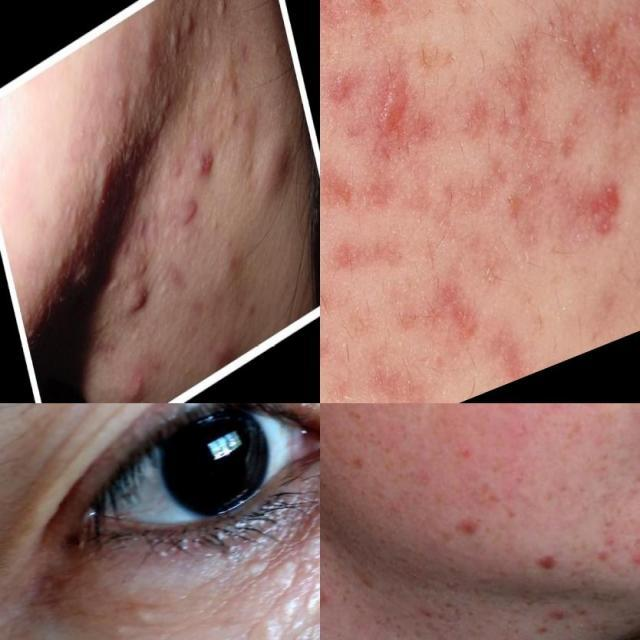Pimples: (540, 0, 640, 141), (347, 46, 450, 169), (471, 32, 560, 139), (227, 532, 320, 614), (561, 164, 638, 258), (428, 290, 490, 358), (118, 270, 158, 332), (262, 130, 296, 202), (183, 136, 222, 191), (208, 0, 232, 30), (181, 8, 197, 44), (255, 0, 277, 18)
